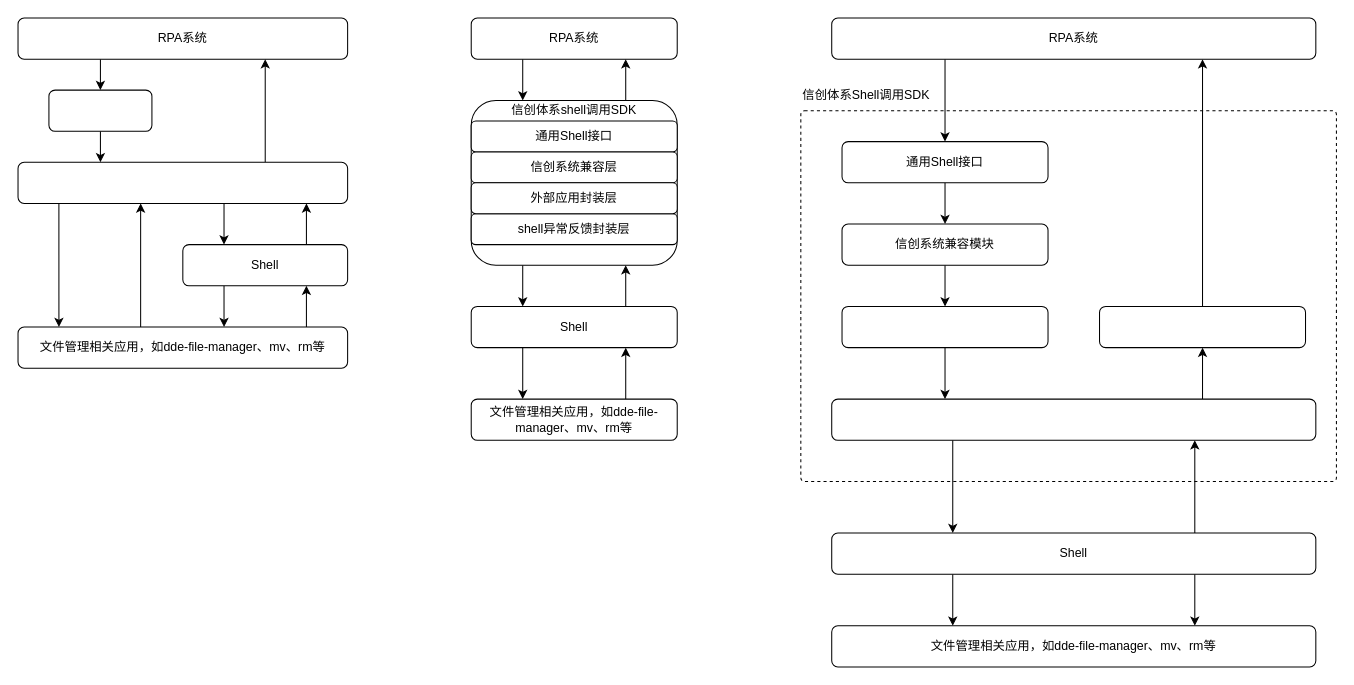
The diagram is 1354 pixels wide and 685 high, and some of its shapes have lost their labels. Here are the shapes that lost their labels. From the top down, the centre of each, then its label:
the point at 100,110: 硬编码外部命令
the point at 182,182: 各编程语言用于执行外部命令的模块 如python的subprocess模块
the point at 944,326: 外部应用系统依赖环境封装模块
the point at 1202,326: Shell异常反馈判断模块
the point at 1073,419: 各编程语言用于执行外部命令的模块，如python的subprocess模块
